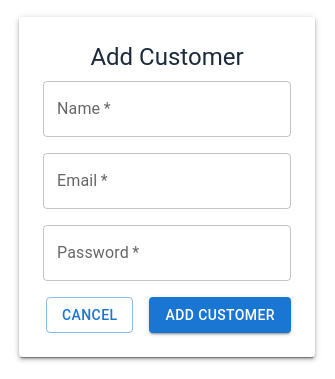
Scenario: AddCustomer Component › resets form when cancel is clicked
The image size is (335, 379).
Type "Test" into the field labelled "Name *".
click(167, 109); type("Test")  # box [43, 81, 291, 137]
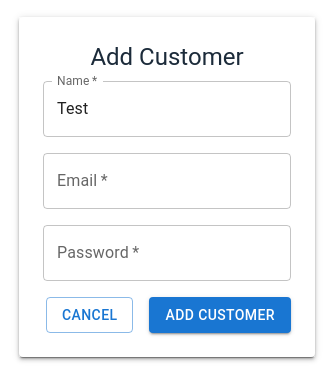
Type "test@example.com" into the field labelled "Email *".
click(167, 181); type("test@example.com")  # box [43, 153, 291, 209]
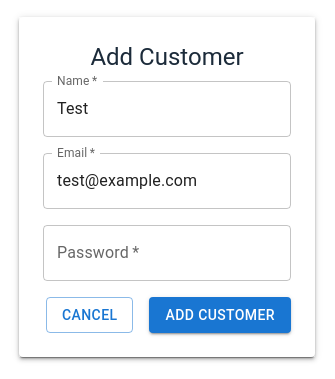
Type "123" into the password field labelled "Password *".
click(167, 253); type("123")  # box [43, 225, 291, 281]
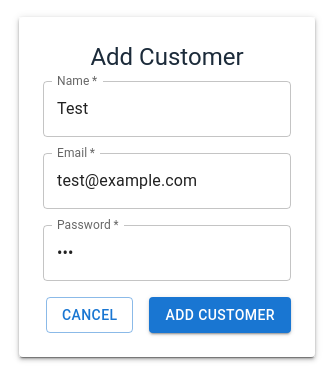
Click the button "Cancel".
click(90, 315)  # box [46, 297, 134, 334]
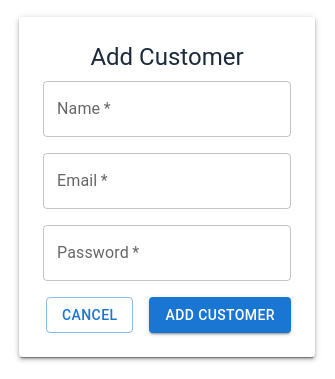
Expected: the field labelled "Name *" is empty, [43, 81, 291, 137]
Expected: the field labelled "Email *" is empty, [43, 153, 291, 209]
Expected: the password field labelled "Password *" is empty, [43, 225, 291, 281]
